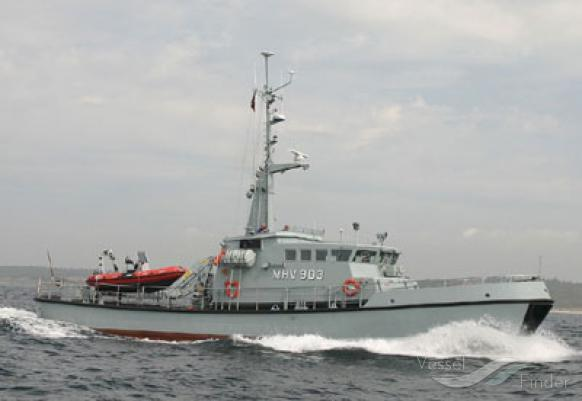OCR: (268, 262, 330, 287)
